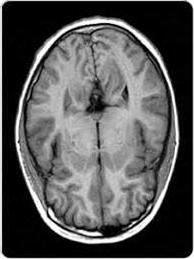Normal_Brain: (5, 4, 194, 259)
